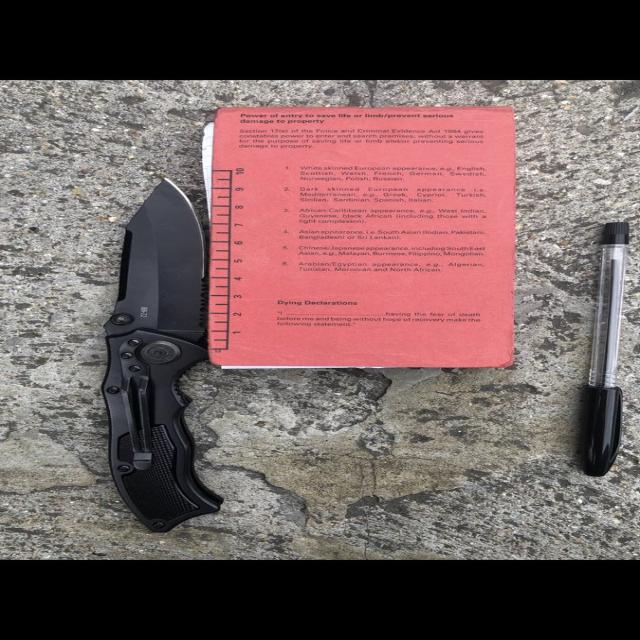Sharp-Object: (108, 174, 228, 535)
